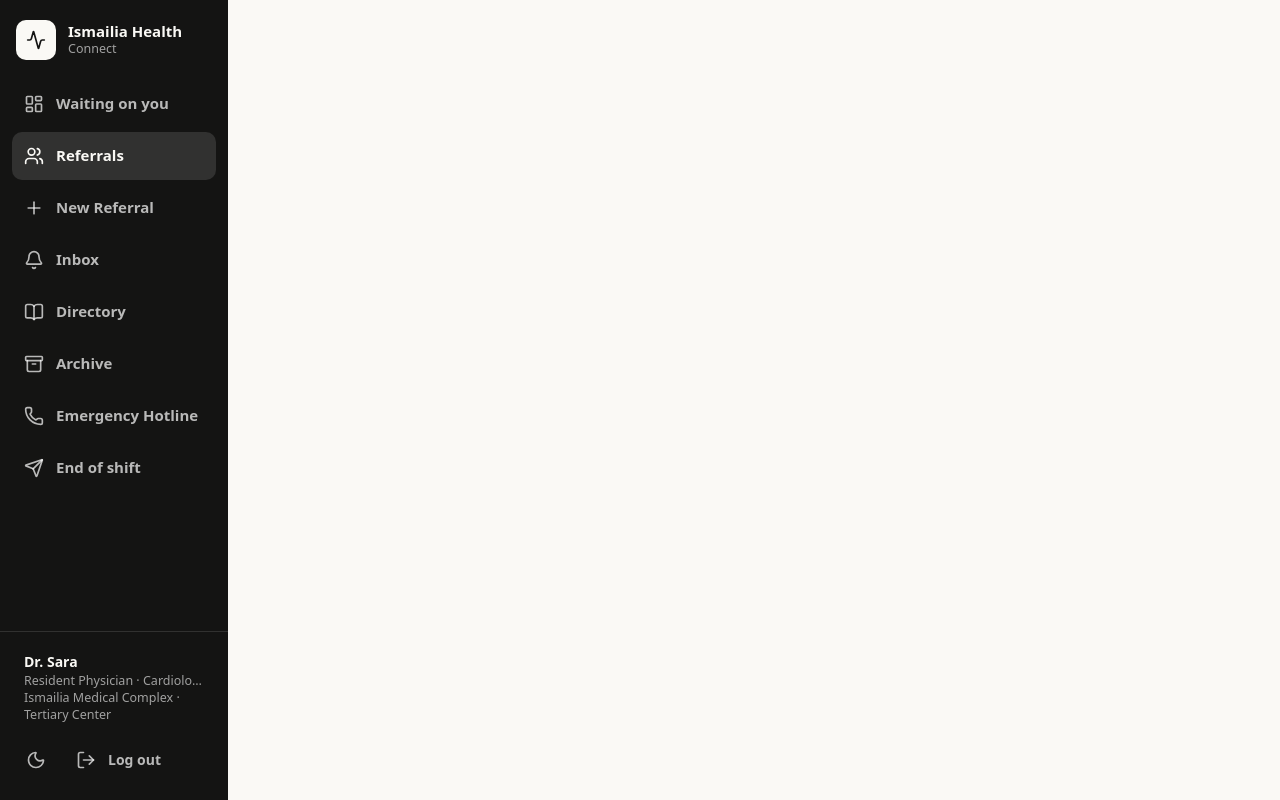
Test case: AppLayout › profile dialog › opens pre-filled from the current user, saves successfully, and closes
Click the button titled "My Profile & On-Call Schedule": coordinates (114, 688) [12,644,216,732]
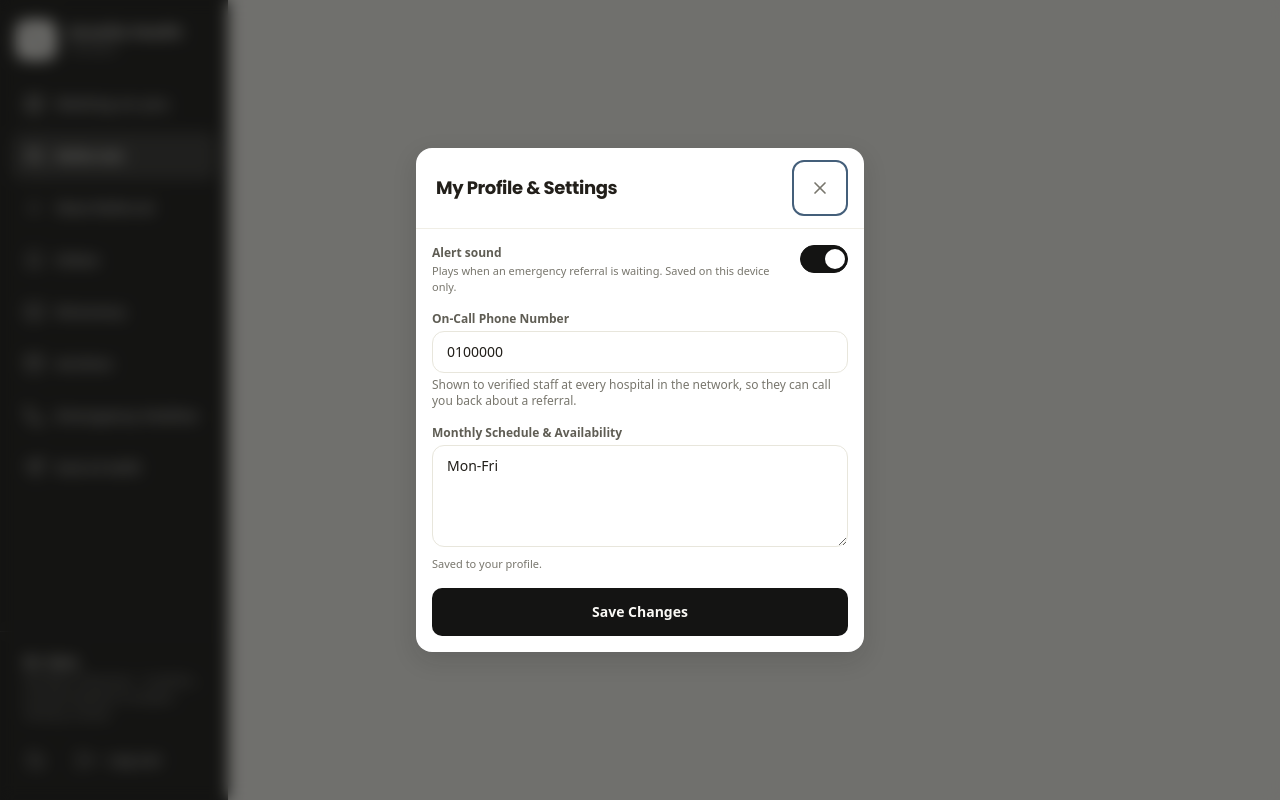
Check: the dialog "My Profile" is shown
Check: the field labelled "On-Call Phone Number" holds "0100000"
Check: the text box labelled "Monthly Schedule & Availability" holds "Mon-Fri", box [432,445,848,547]
Replace the text in the field labelled "On-Call Phone Number" with "0111111": coordinates (640, 352) [432,331,848,373]
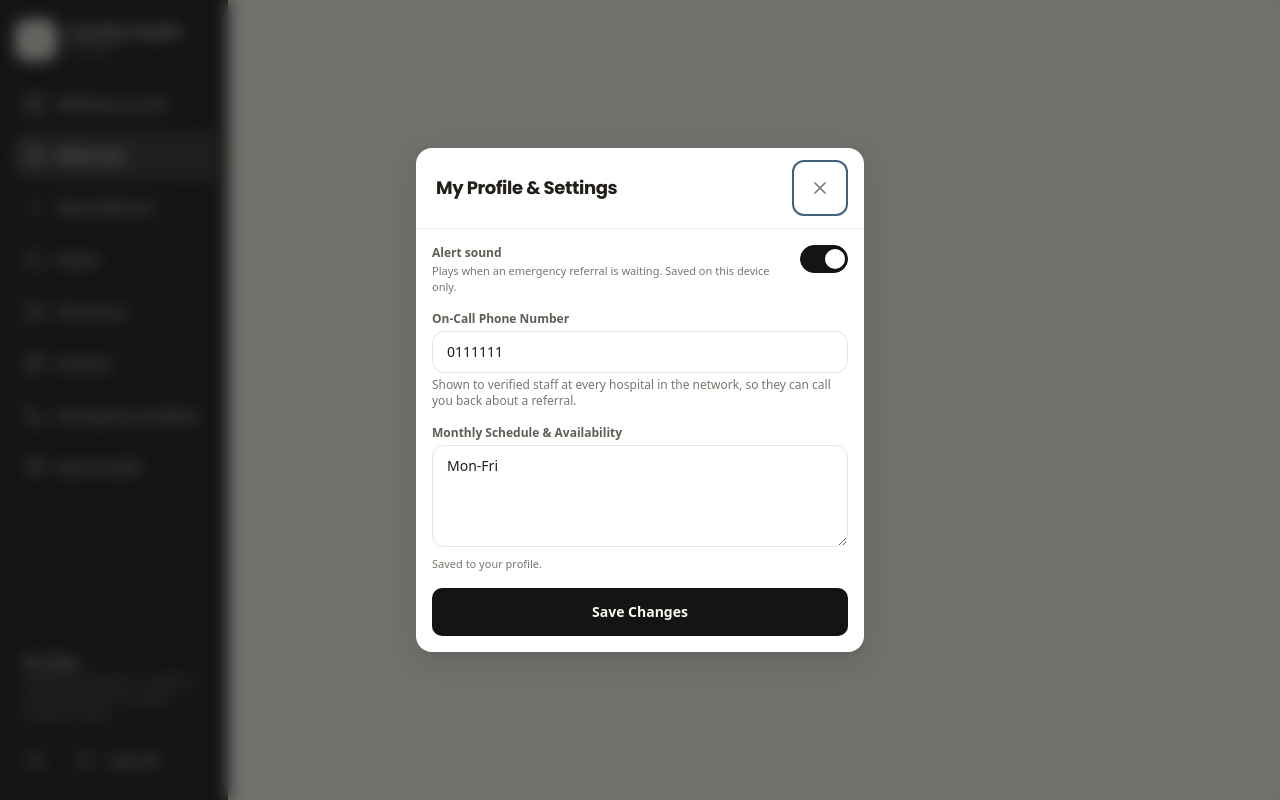
Replace the text in the text box labelled "Monthly Schedule & Availability" with "Weekends only": coordinates (640, 496) [432,445,848,547]
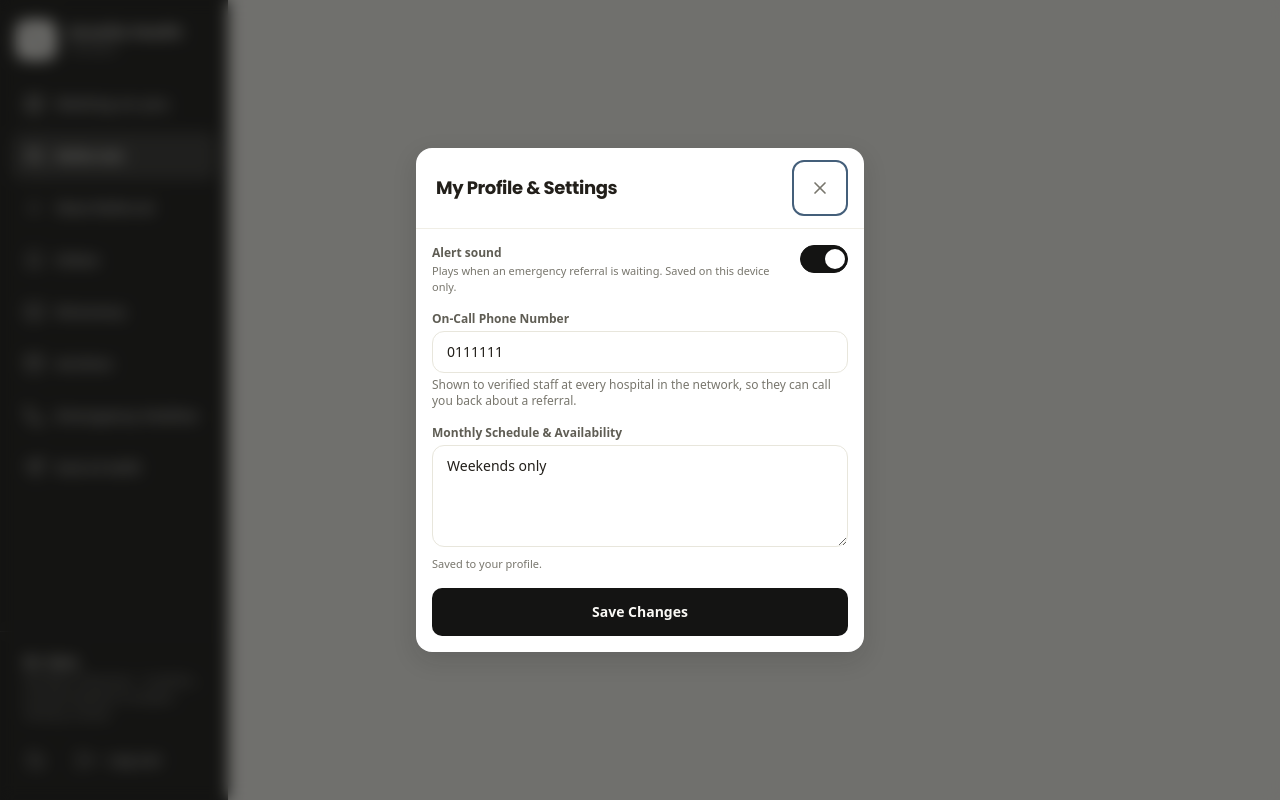
Click the button "Save Changes": coordinates (640, 612) [432,588,848,636]
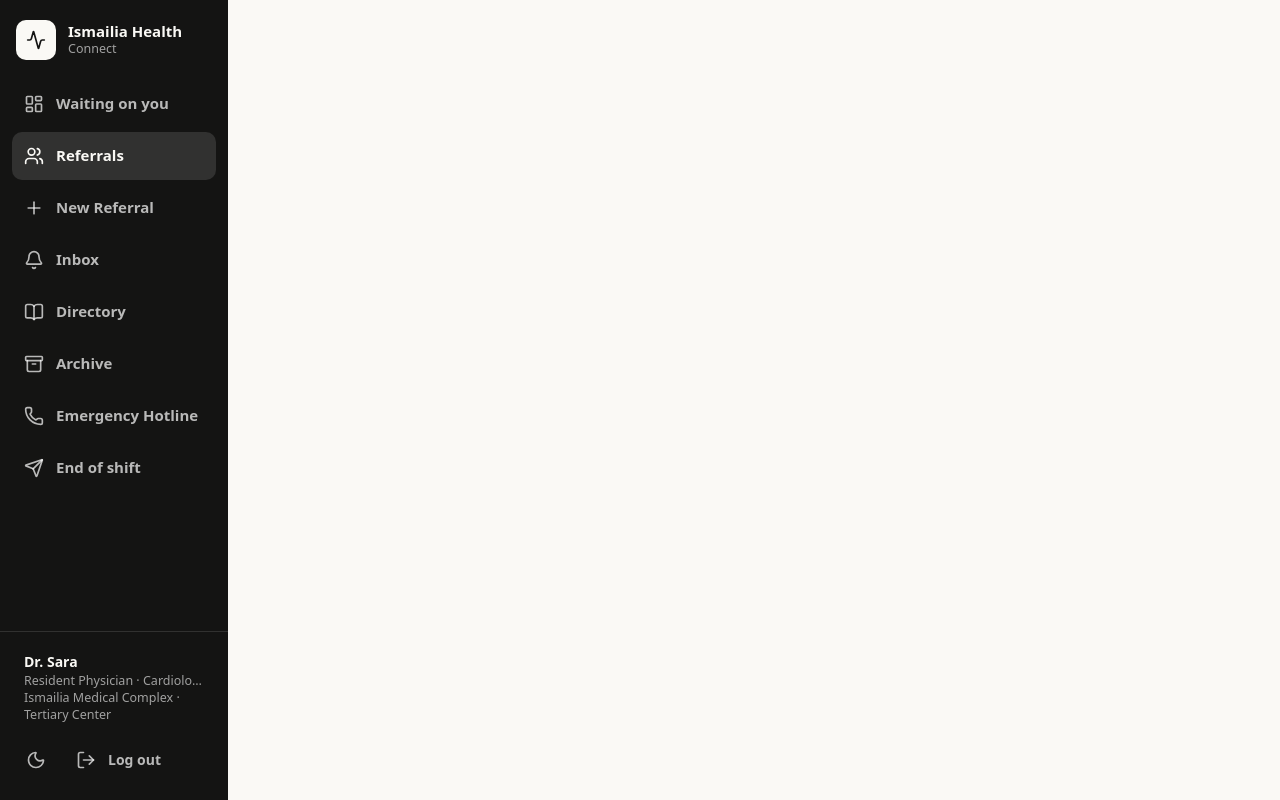
Check: the heading "My Profile" is gone
